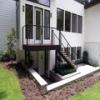stairs: (52, 49, 84, 75)
